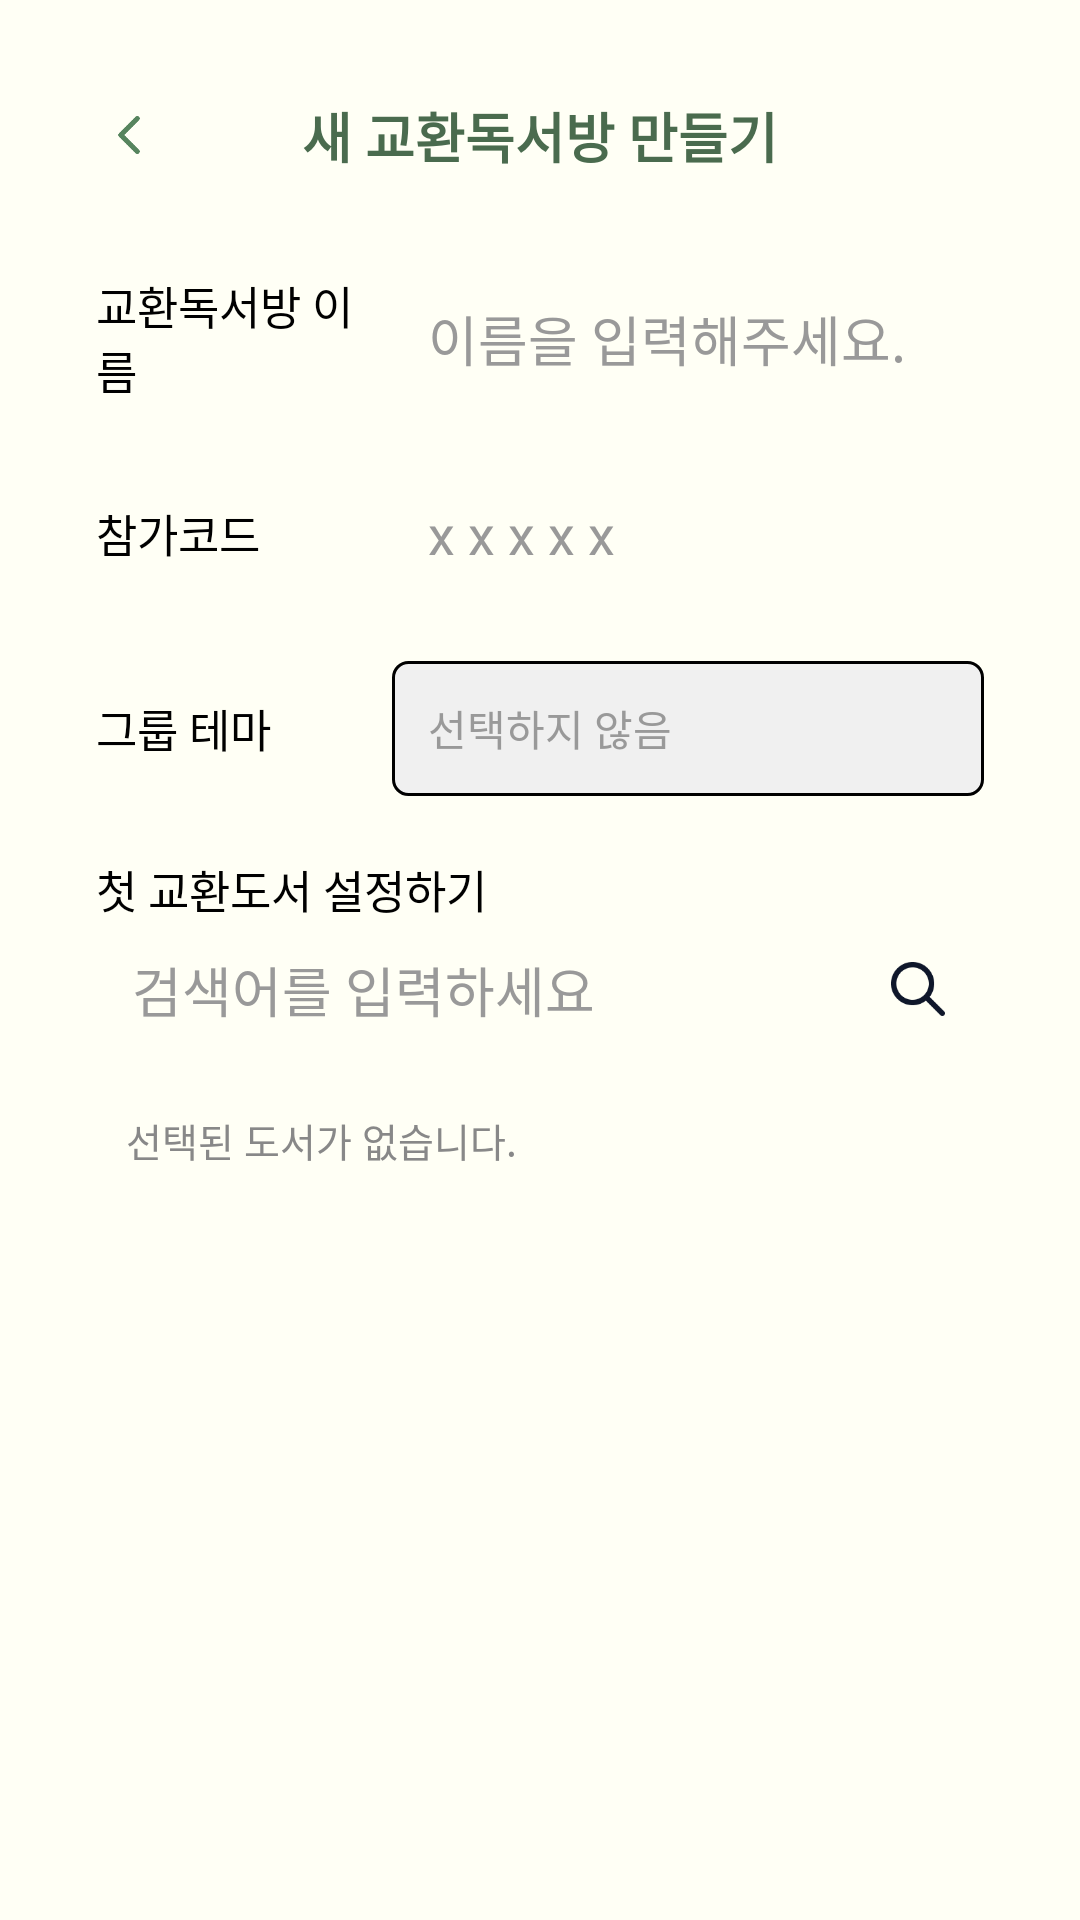

Icons on this 1080w x 1920h Android screen, each with its box as (x1, y1, x2, y2):
뒤로가기: (118, 116, 140, 154)
